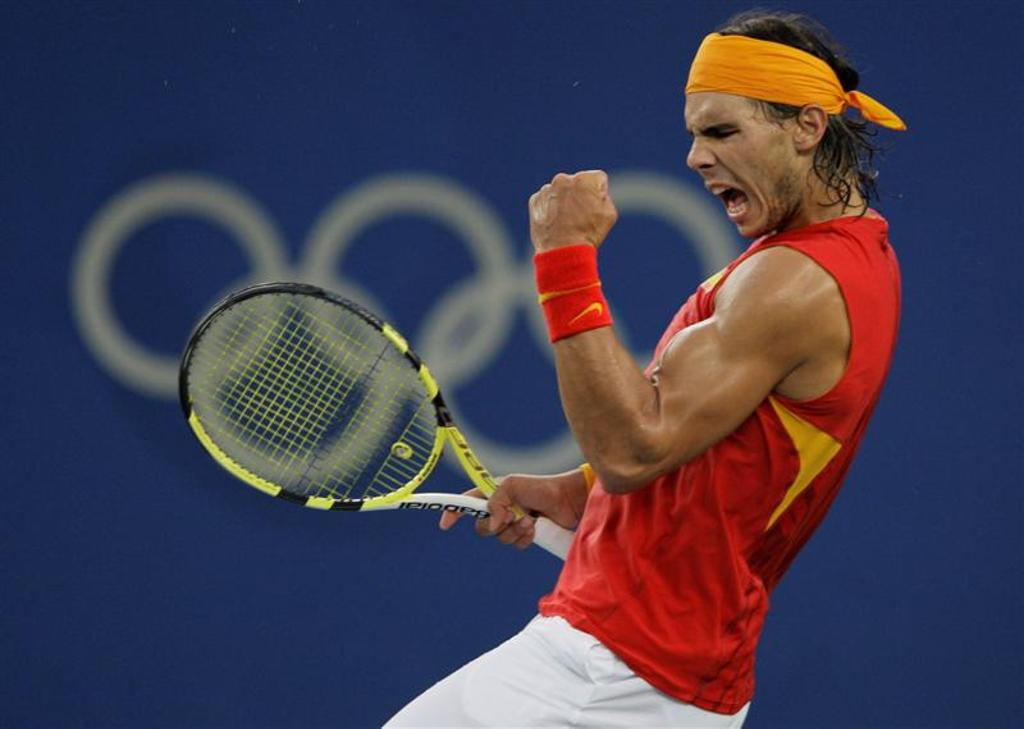face: (680, 88, 800, 242)
